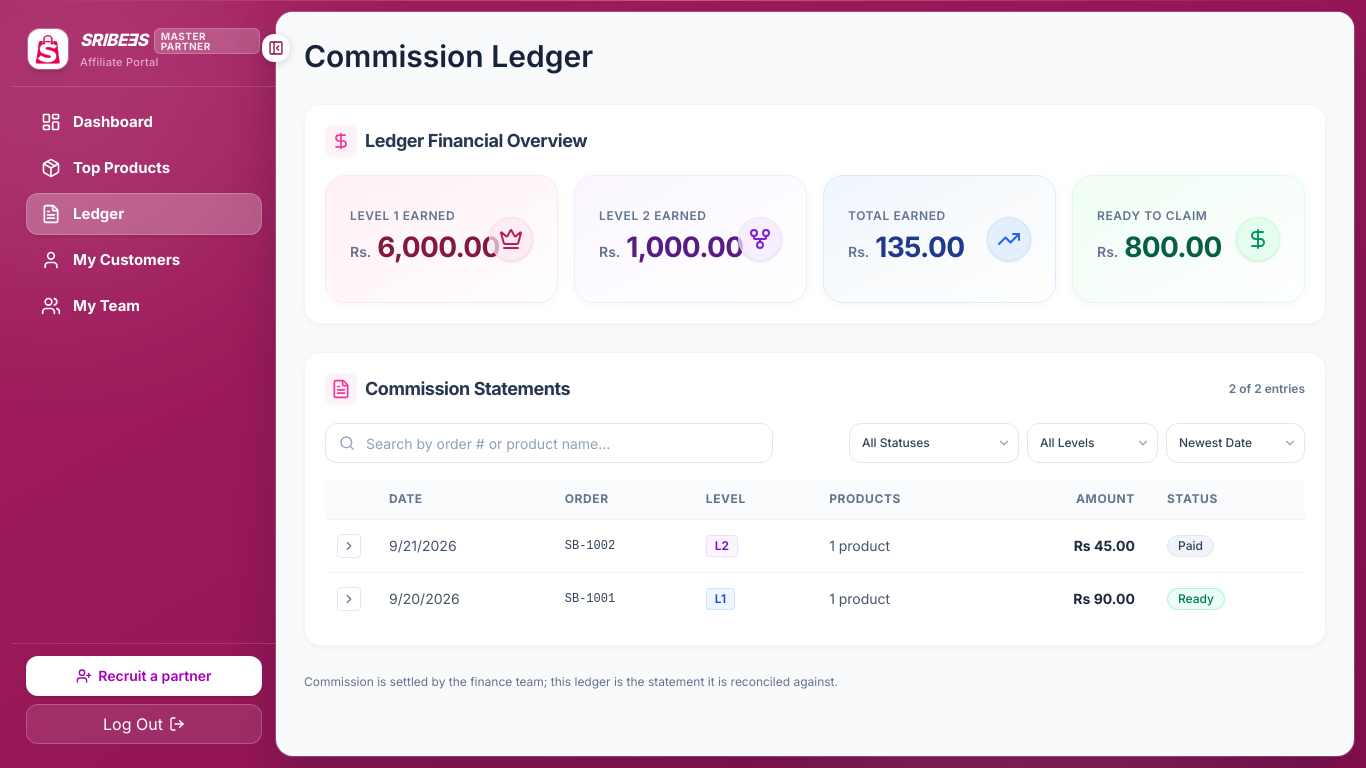
Scenario: Ledger Page › filters ledger entries by search query
Expected: the text "SB-1001" is shown, [549, 572, 690, 625]
Type "SB-1002" into the field with placeholder "Search by order # or product name..." at (549, 443), box [325, 423, 773, 463]
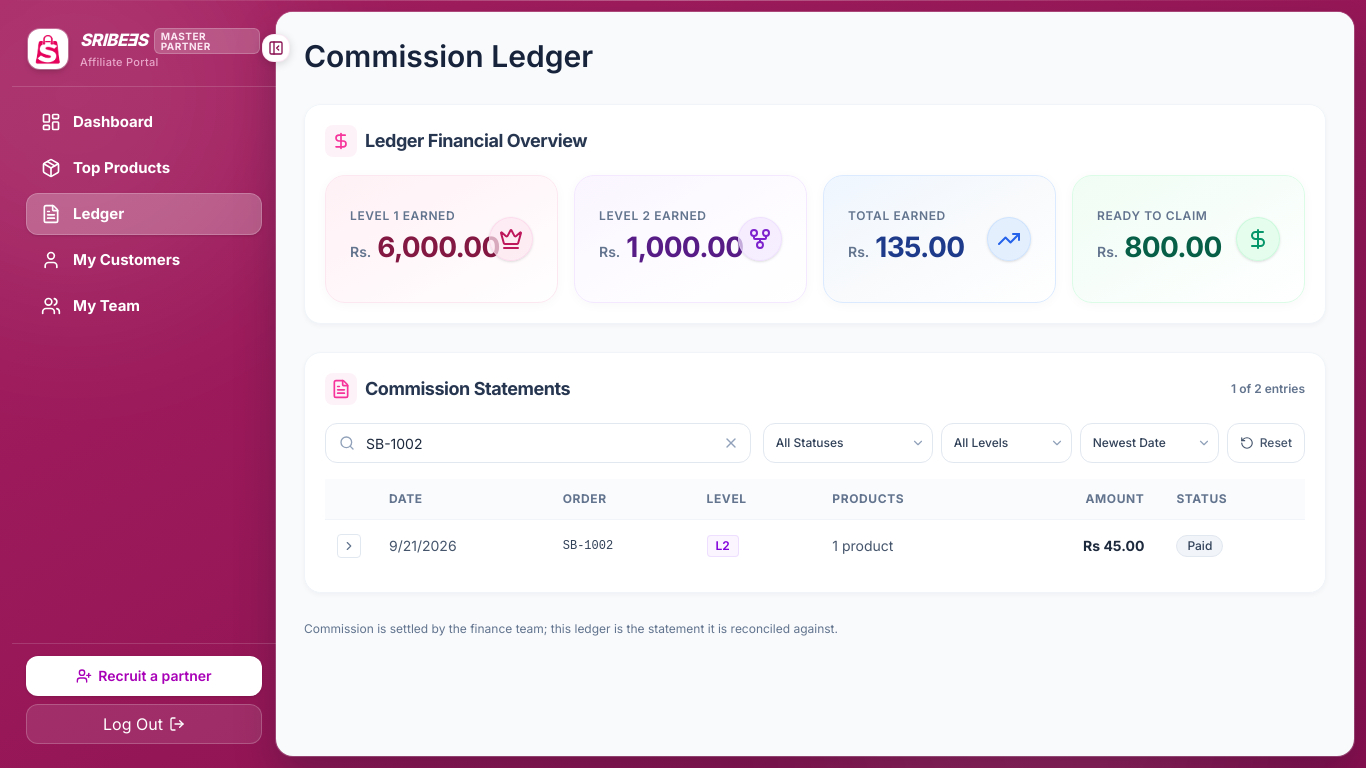
Expected: the text "SB-1002" is shown, [547, 520, 691, 572]
Result: the text "SB-1001" is gone
